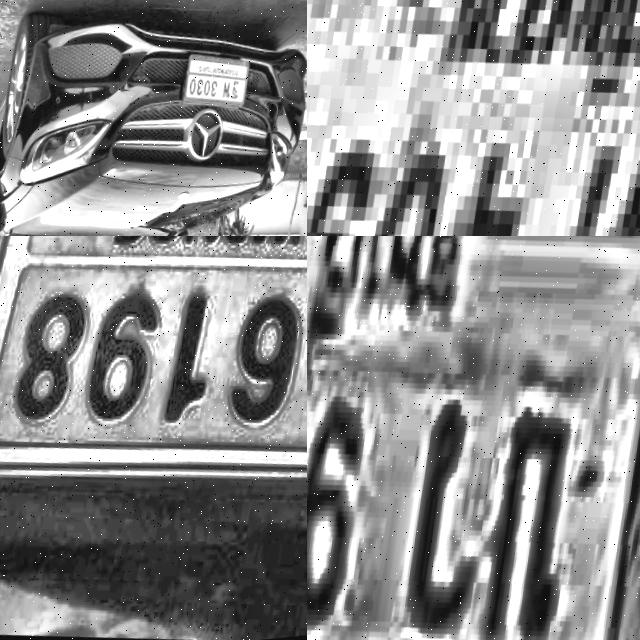license-plate: (307, 236, 640, 640), (0, 236, 307, 563), (307, 0, 640, 236), (181, 57, 251, 122)
